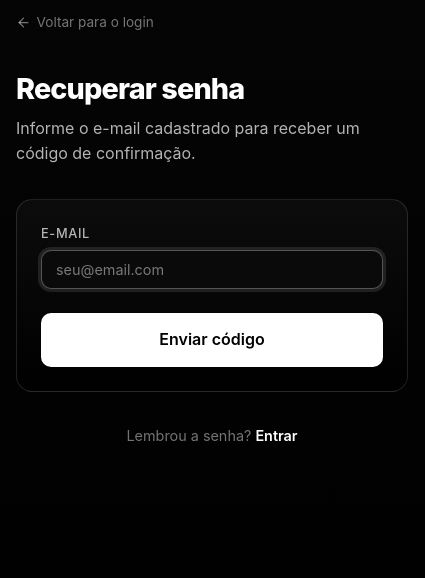
ForgotPassword Page › requests a code and advances to the code step on success
Type "user@example.com" into the field labelled "E-mail" at (212, 270), box [41,250,383,290]
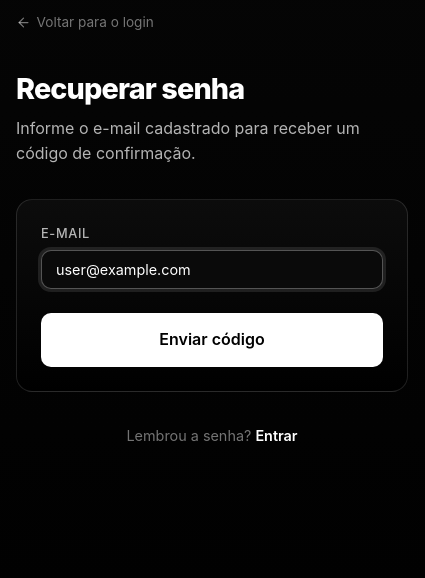
Click the button "Enviar código" at (212, 340), box [41,314,383,367]
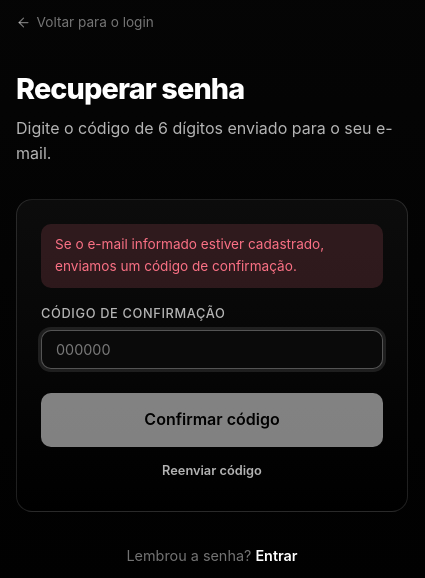
Now the field labelled "Código de confirmação" is shown, box [41,330,383,369]
